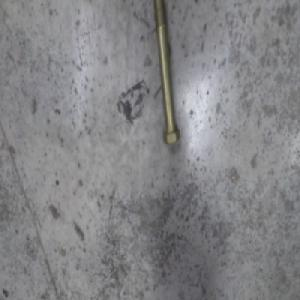Bolt: (152, 5, 179, 148)
